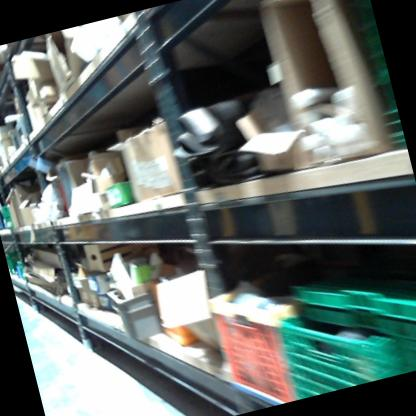pallet: (0, 64, 69, 114), (0, 91, 55, 144), (0, 41, 52, 89)
